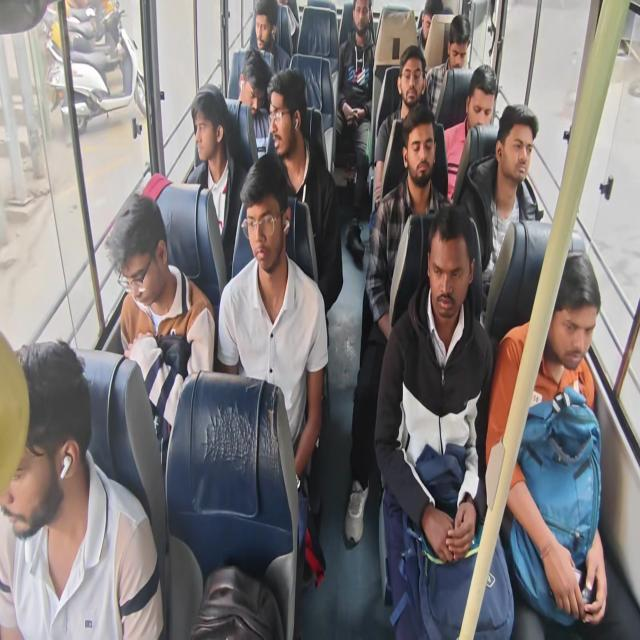person: (374, 203, 515, 639), (216, 152, 329, 588), (0, 338, 164, 638), (343, 104, 452, 547), (486, 249, 608, 633), (105, 193, 215, 462), (266, 68, 344, 314), (457, 103, 542, 322), (184, 83, 248, 282), (334, 0, 376, 259), (373, 44, 430, 208), (443, 64, 497, 201), (424, 14, 471, 121), (236, 47, 272, 159), (248, 0, 290, 75), (416, 0, 445, 54)
